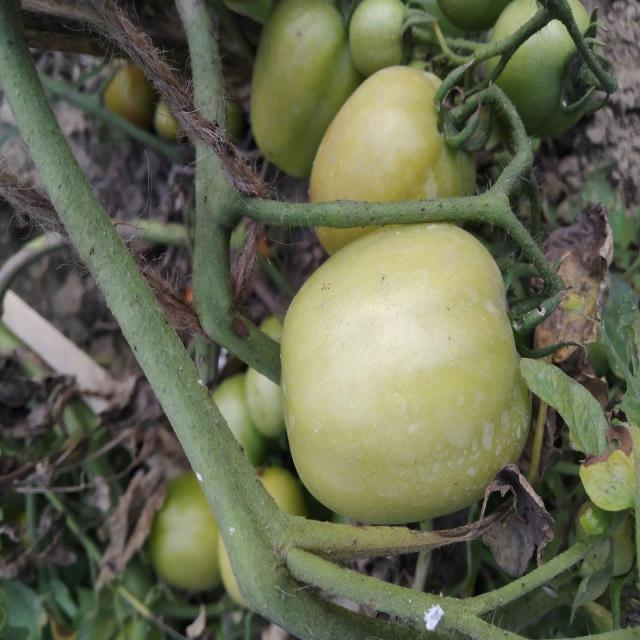Unripe: (278, 214, 531, 525), (309, 60, 480, 252)
